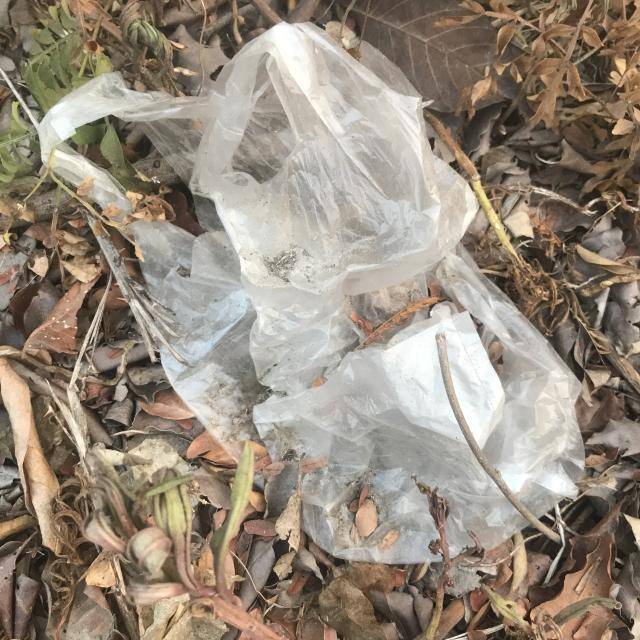Single-layer Plastic: (40, 24, 584, 562)
